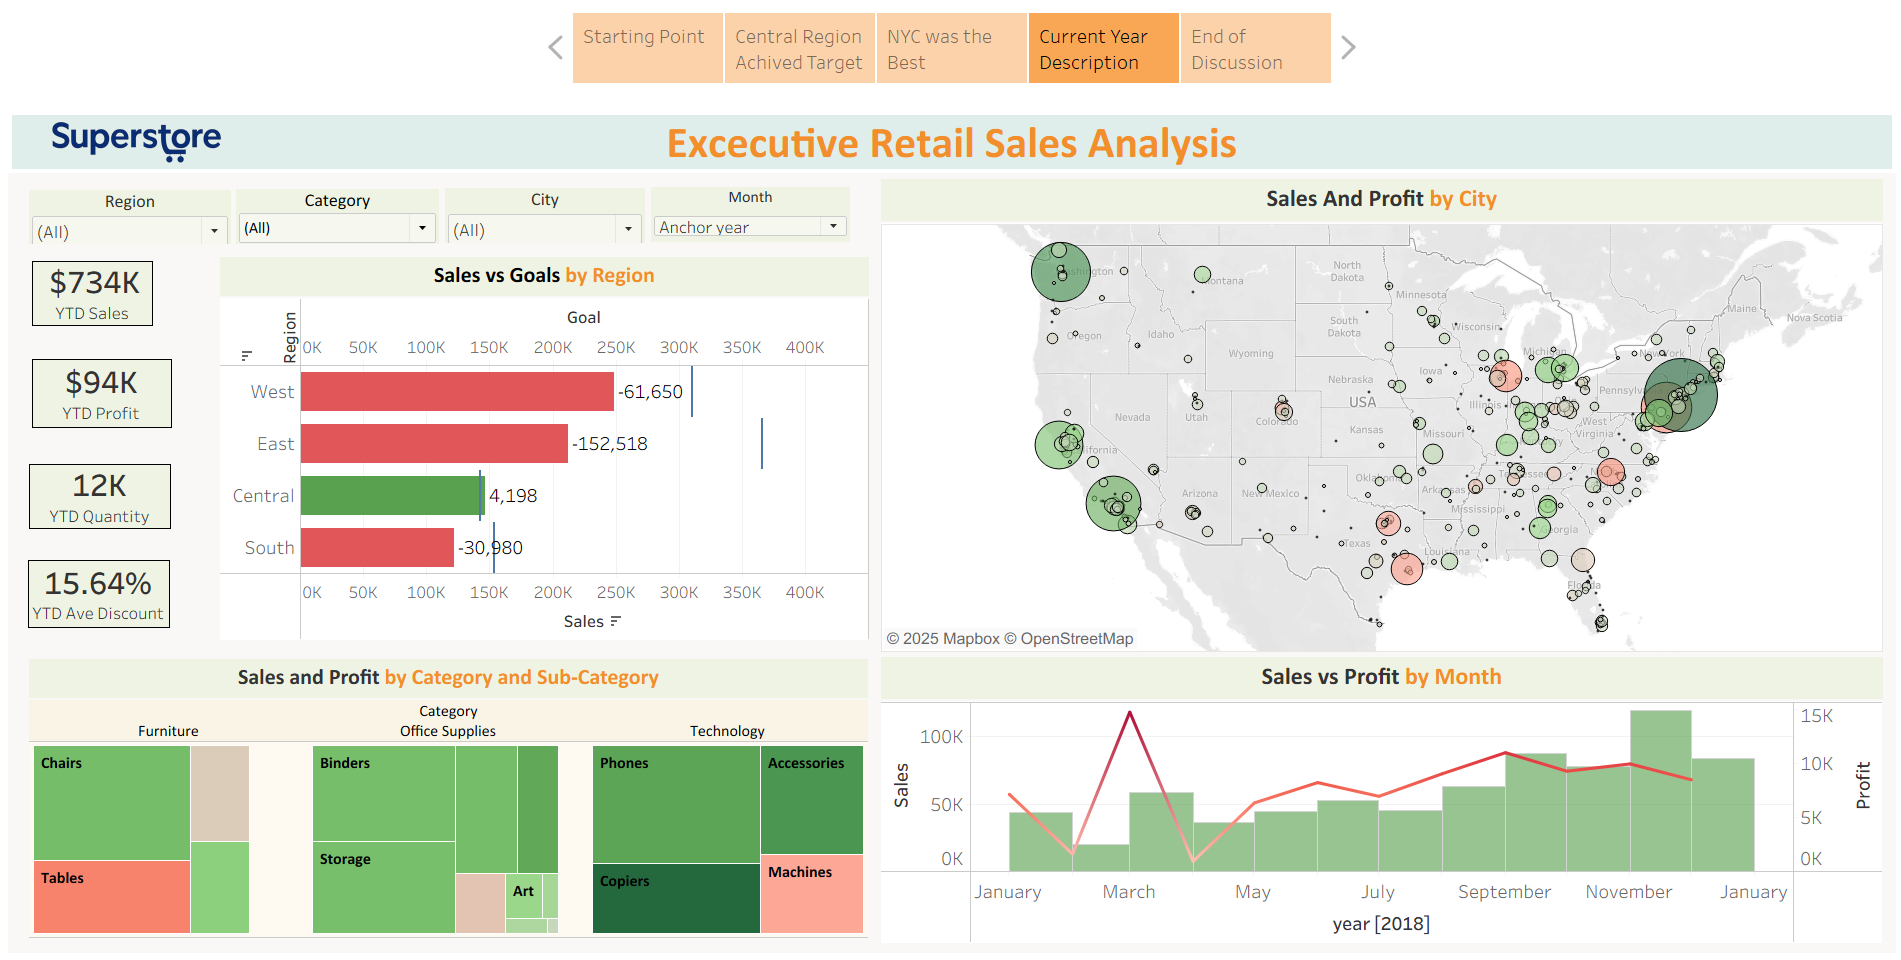

The page's visual inventory and layout, read from the dashboard file:
{"tool":"tableau","page":{"name":"Dashboard 1","canvas":[1000,1000],"units":"permille","ordinal":0},"visuals":[{"type":"title","box":[4.2,8.2,991.7,63.6]},{"type":"image","param":"Image/Logo.png","box":[21.1,14.8,157,60.3]},{"type":"worksheet","title":"Sheet 3","mark":"Automatic","box":[462.9,88.3,526.2,551.7]},{"type":"filter","title":"Sheet 5","param":"[federated.0fsgl0g1t9uvza11zn0zj0y9v6vl].[tmn:Order Date (MDY):qk]","box":[342.1,97.9,104.7,64.3]},{"type":"filter","title":"Sheet 3","param":"[federated.0fsgl0g1t9uvza11zn0zj0y9v6vl].[none:City:nk]","box":[233.6,99.2,105.3,64.3]},{"type":"filter","title":"Sheet 4","param":"[federated.0fsgl0g1t9uvza11zn0zj0y9v6vl].[none:Category:nk]","box":[123.8,100.5,106.6,64.3]},{"type":"filter","title":"Sales vs Goals by Region","param":"[federated.0fsgl0g1t9uvza11zn0zj0y9v6vl].[none:Region:nk]","box":[15.3,101.9,105.9,63]},{"type":"worksheet","title":"Sales vs Goals by Region","mark":"Automatic","rows":["Region"],"cols":["Sales","Goal"],"box":[115.5,179.6,340.8,446.4]},{"type":"worksheet","title":"Sheet 6","mark":"Automatic","box":[16.6,183.7,90,88.5]},{"type":"worksheet","title":"Sheet 6 (2)","mark":"Automatic","box":[16.6,298.9,90,93.8]},{"type":"worksheet","title":"Sheet 6 (3)","mark":"Automatic","box":[15.3,420.9,91.3,88.5]},{"type":"worksheet","title":"Sheet 6 (4)","mark":"Automatic","box":[14.7,532.2,90.6,91.2]},{"type":"worksheet","title":"Sheet 5","mark":"Automatic","rows":["Sales","Profit"],"cols":["Order Date (MDY)"],"box":[462.9,645.8,526.2,333.3]},{"type":"worksheet","title":"Sheet 4","mark":"Automatic","cols":["Category"],"box":[15.1,648.1,440.6,327.5]}]}

Visuals, with their boxes on the dashboard's canvas, which has no fixed pixel size, in thousandths of its width and height (x1, y1, x2, y2). These are canvas units, not pixel positions in the 1901x960 screenshot, which may show the page scaled, cropped or inside an application window:
title: x1=4, y1=8, x2=996, y2=72
image: x1=21, y1=15, x2=178, y2=75
"Sheet 3" worksheet: x1=463, y1=88, x2=989, y2=640
"Sheet 5" filter: x1=342, y1=98, x2=447, y2=162
"Sheet 3" filter: x1=234, y1=99, x2=339, y2=164
"Sheet 4" filter: x1=124, y1=100, x2=230, y2=165
"Sales vs Goals by Region" filter: x1=15, y1=102, x2=121, y2=165
"Sales vs Goals by Region" worksheet: x1=116, y1=180, x2=456, y2=626
"Sheet 6" worksheet: x1=17, y1=184, x2=107, y2=272
"Sheet 6 (2)" worksheet: x1=17, y1=299, x2=107, y2=393
"Sheet 6 (3)" worksheet: x1=15, y1=421, x2=107, y2=509
"Sheet 6 (4)" worksheet: x1=15, y1=532, x2=105, y2=623
"Sheet 5" worksheet: x1=463, y1=646, x2=989, y2=979
"Sheet 4" worksheet: x1=15, y1=648, x2=456, y2=976
